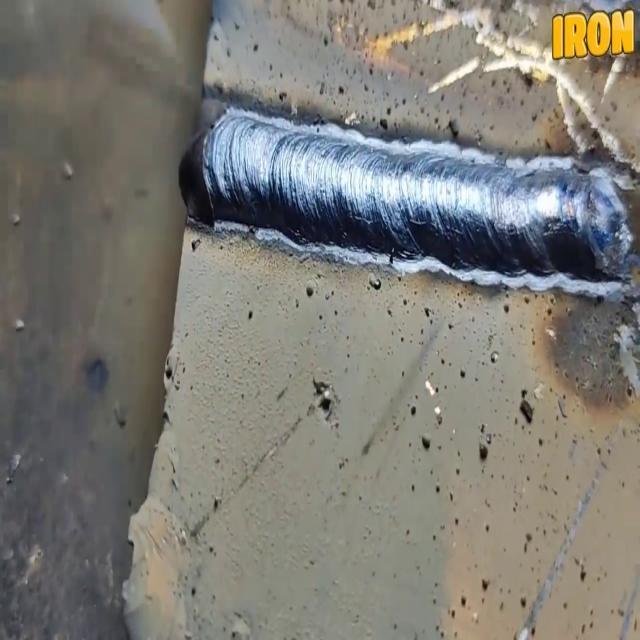Good Weld: (216, 108, 548, 266)
